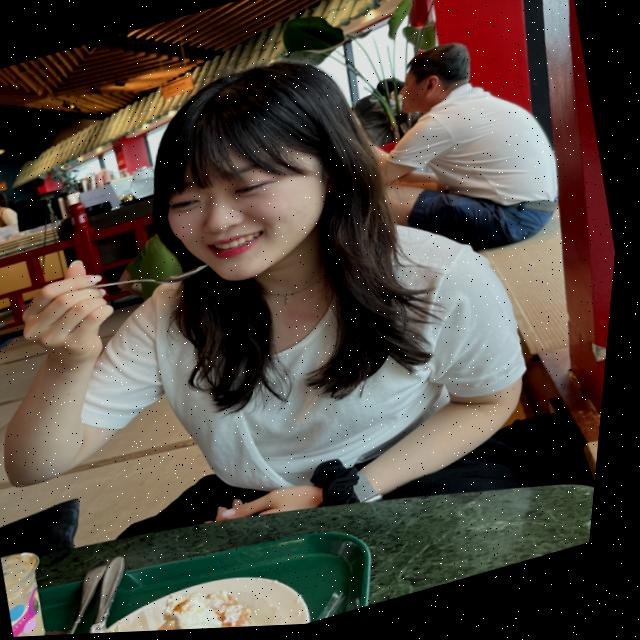eating-person: (0, 0, 589, 604)
